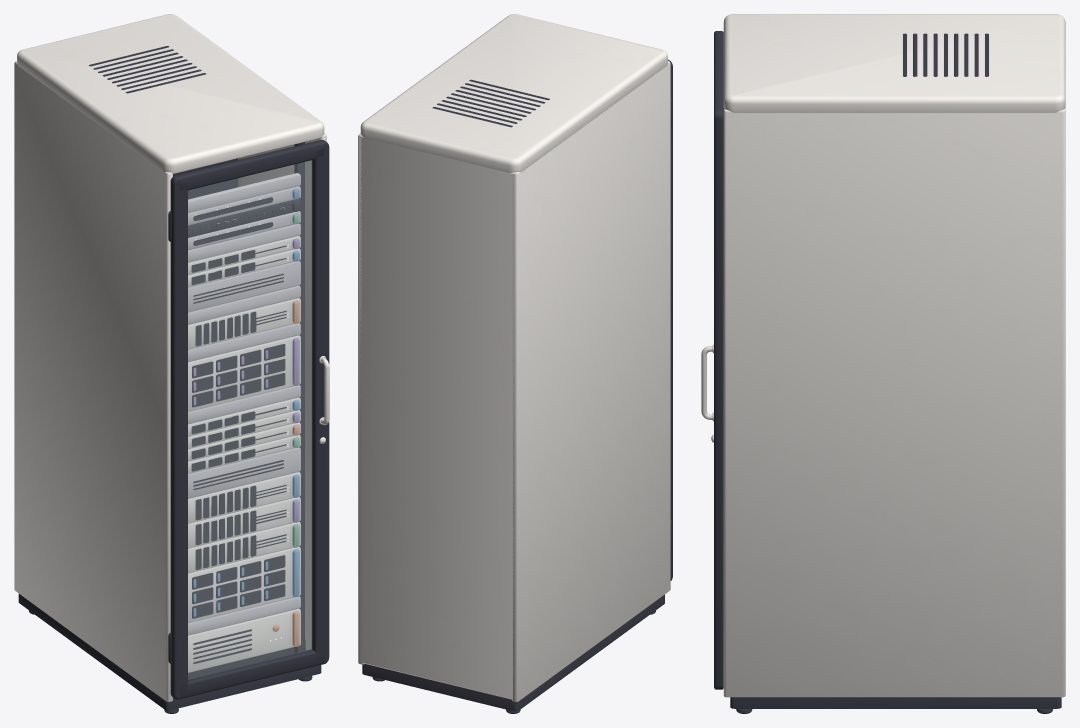
File: server-rack.glb
3 views of the same model, side by side, from view 1: azimuth 30°, elevation 25°; view 2: azimuth 150°, elevation 25°; view 3: azimuth 270°, elevation 25° (orthographic). The views are drawn at different scales.
Visible parts, largest first — view 1: server-rack_body, server-rack_door_glass, server-rack_door; view 2: server-rack_body, server-rack_door; view 3: server-rack_body, server-rack_door.
Boxes of the visible parts, x1,y1,x2,y2 form: server-rack_body: (14, 14, 326, 713); server-rack_door_glass: (188, 160, 311, 679); server-rack_door: (168, 140, 329, 699); server-rack_body: (358, 14, 670, 713); server-rack_door: (668, 59, 672, 580); server-rack_body: (723, 14, 1065, 713); server-rack_door: (701, 31, 723, 689).
Bounding box in the file's own units: 0.6 × 2 × 1.07.
6 materials, 2 textured.
